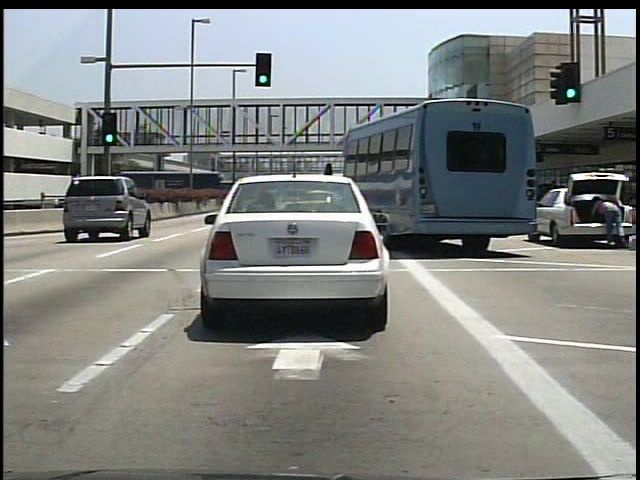person: (588, 189, 625, 252)
